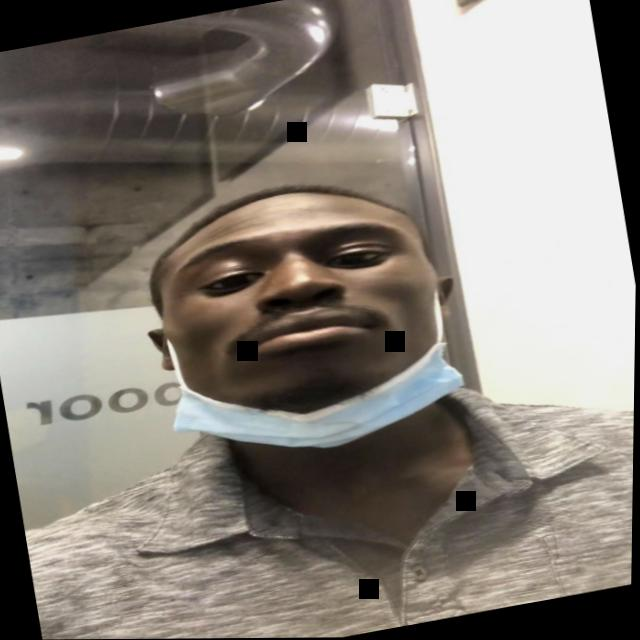NO-Mask: (141, 193, 456, 428)
